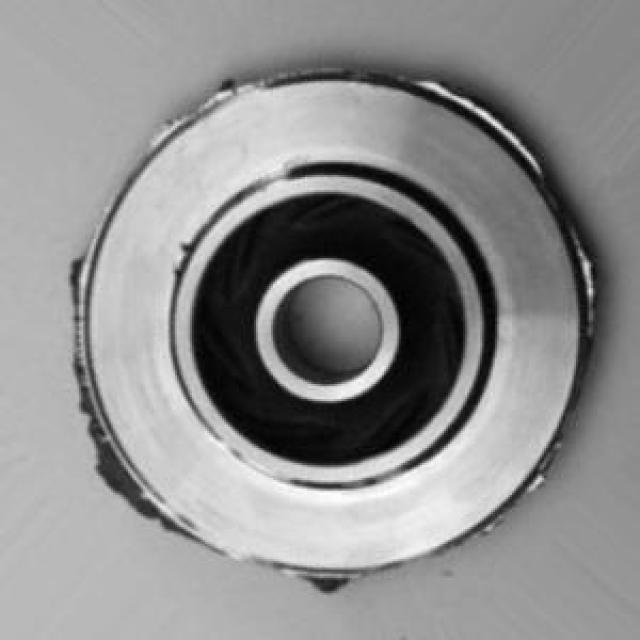Defect: (429, 75, 522, 133)
